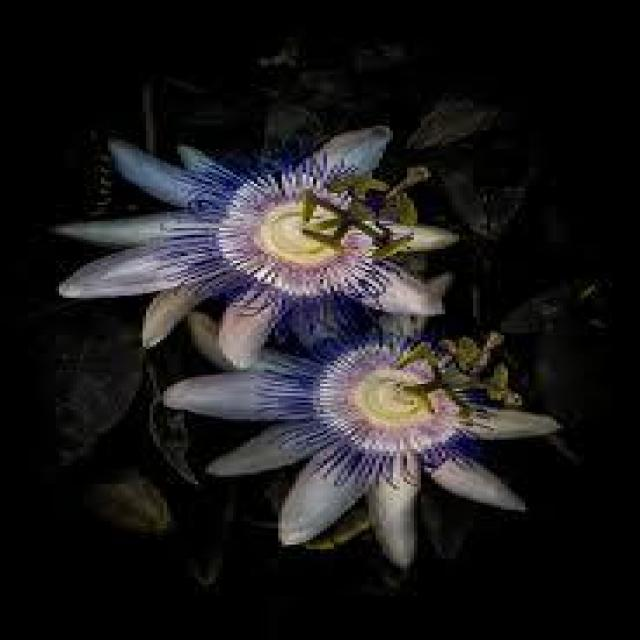organic waste: (184, 300, 570, 561), (52, 116, 466, 340)
